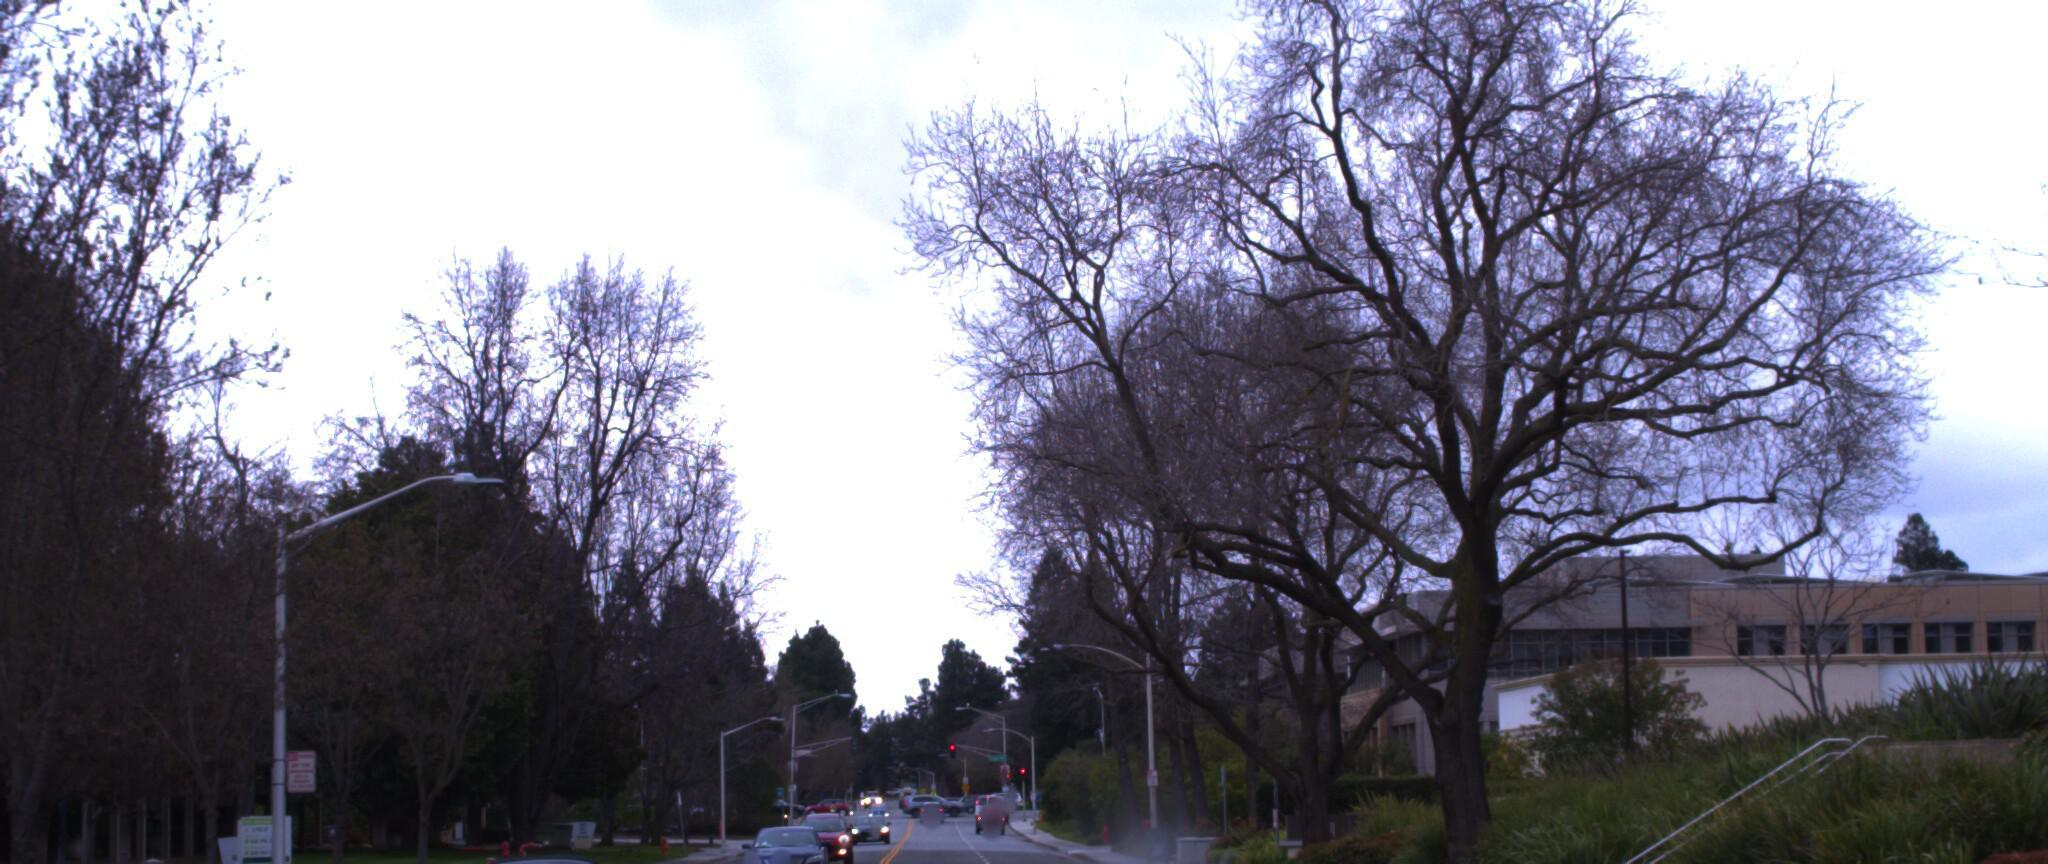car: (427, 837, 653, 864), (741, 809, 827, 864)
